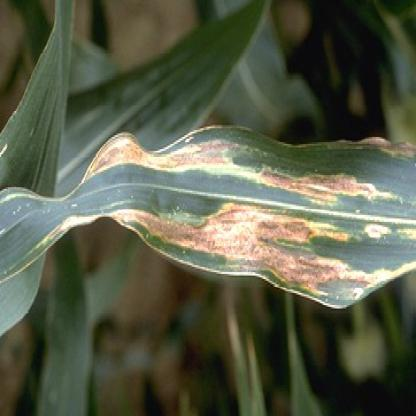corn leaf blight: (1, 125, 415, 302)
